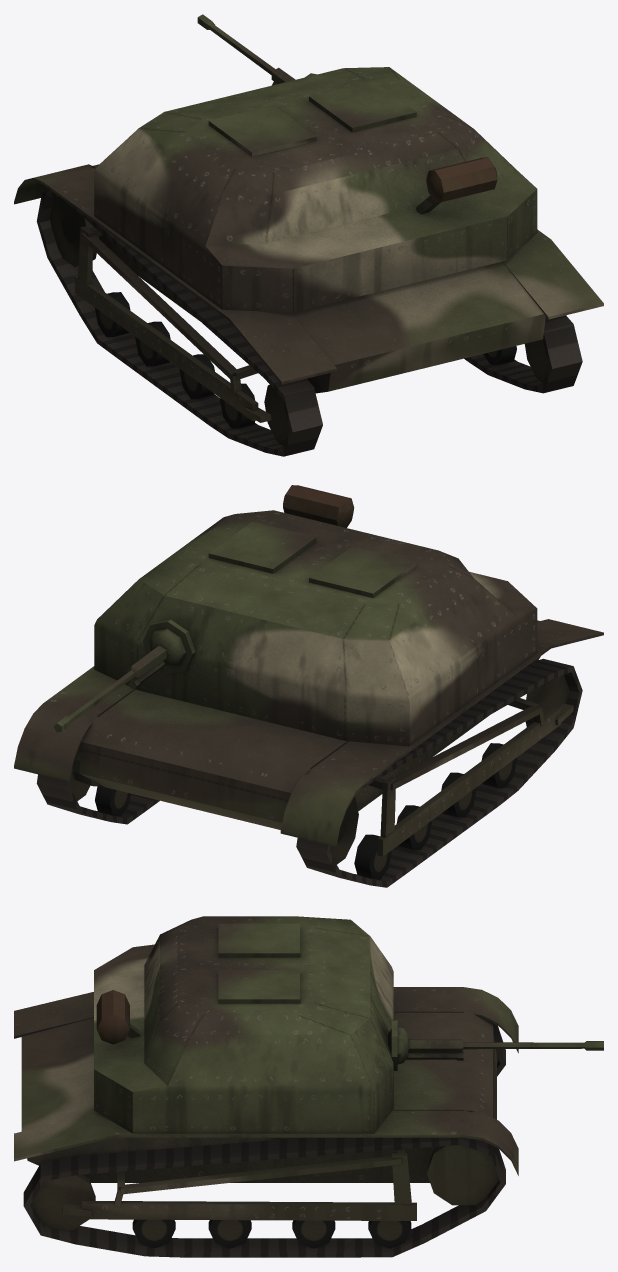
Rendered from TKS20_MID.fbx.
3 views of the same model, one above another, from view 1: azimuth 30°, elevation 25°; view 2: azimuth 150°, elevation 25°; view 3: azimuth 270°, elevation 25° (orthographic). The views are drawn at different scales.
Parts seen in each view (by area): view 1: Chassis, Chenille_Gauche_01, Chenille_Droite_01, Roue_G1, Canon_01, Roue_G6, Roue_D6, Roue_G3, Roue_G4, Roue_G2, Roue_G5; view 2: Chassis, Chenille_Gauche_01, Chenille_Droite_01, Tourelle_01, Canon_01, Roue_G2, Roue_G6, Roue_G1, Roue_D2, Roue_G4, Roue_G5, Roue_G3; view 3: Chassis, Chenille_Droite_01, Roue_D1, Roue_D6, Canon_01, Roue_D5, Roue_D4, Roue_D3, Roue_D2, Tourelle_01, Axe_Canon_01.
Boxes of the visible parts, bbox=[...] form: Chassis: bbox=[14, 67, 603, 422]; Chenille_Gauche_01: bbox=[36, 190, 322, 456]; Chenille_Droite_01: bbox=[464, 315, 582, 393]; Roue_G1: bbox=[50, 196, 98, 267]; Canon_01: bbox=[197, 14, 295, 83]; Roue_G6: bbox=[264, 384, 289, 445]; Roue_D6: bbox=[524, 339, 548, 382]; Roue_G3: bbox=[135, 321, 170, 366]; Roue_G4: bbox=[179, 354, 214, 398]; Roue_G2: bbox=[95, 292, 130, 336]; Roue_G5: bbox=[220, 383, 255, 428]; Chassis: bbox=[14, 485, 603, 856]; Chenille_Gauche_01: bbox=[296, 658, 582, 887]; Chenille_Droite_01: bbox=[36, 743, 159, 824]; Tourelle_01: bbox=[143, 619, 195, 673]; Canon_01: bbox=[53, 645, 166, 732]; Roue_G2: bbox=[354, 834, 391, 879]; Roue_G6: bbox=[525, 675, 569, 737]; Roue_G1: bbox=[330, 796, 358, 864]; Roue_D2: bbox=[95, 784, 130, 816]; Roue_G4: bbox=[441, 772, 476, 817]; Roue_G5: bbox=[481, 743, 516, 787]; Roue_G3: bbox=[396, 805, 432, 849]; Chassis: bbox=[14, 916, 518, 1220]; Chenille_Droite_01: bbox=[23, 1137, 505, 1257]; Roue_D1: bbox=[426, 1144, 498, 1205]; Roue_D6: bbox=[31, 1174, 95, 1230]; Canon_01: bbox=[408, 1039, 603, 1052]; Roue_D5: bbox=[132, 1219, 175, 1247]; Roue_D4: bbox=[208, 1220, 251, 1248]; Roue_D3: bbox=[292, 1220, 335, 1248]; Roue_D2: bbox=[368, 1221, 411, 1248]; Tourelle_01: bbox=[388, 1020, 408, 1070]; Axe_Canon_01: bbox=[406, 1038, 463, 1060].
Size of the model in its own units: 180 by 303 by 130.
Materials: 1 (1 with a texture image).
